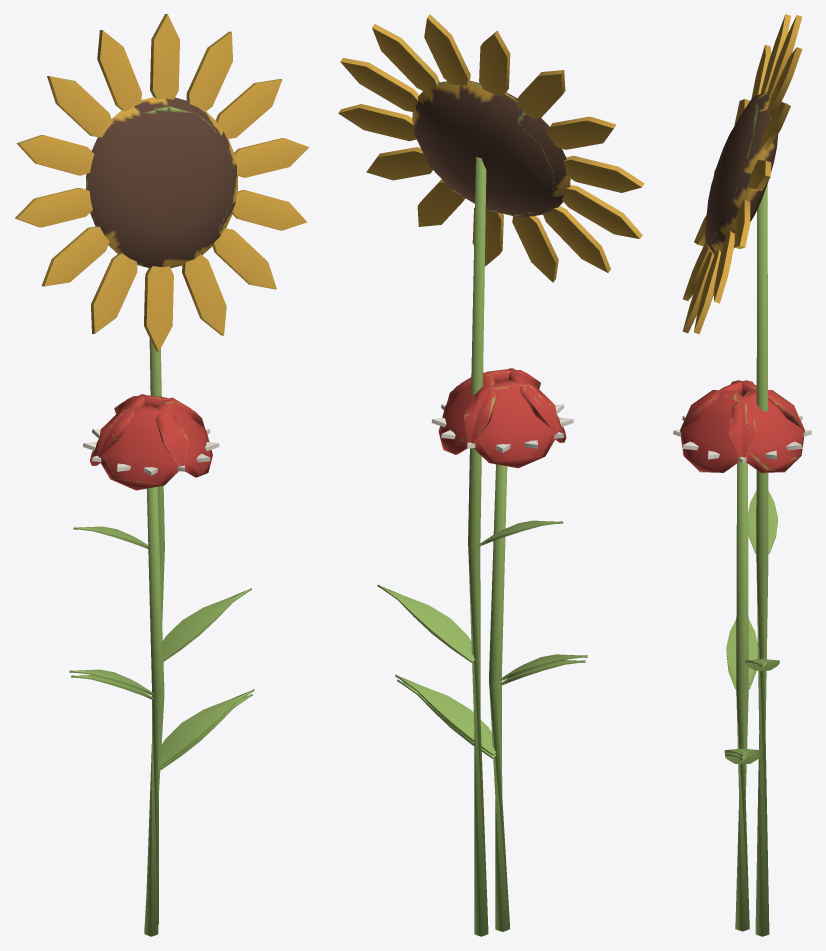
File: fleur.glb
3 views of the same model, side by side, from view 1: azimuth 30°, elevation 25°; view 2: azimuth 150°, elevation 25°; view 3: azimuth 270°, elevation 25° (orthographic). The views are drawn at different scales.
Parts seen in each view (by area): view 1: tournesol, coquelicot, marguerite; view 2: tournesol, coquelicot, marguerite; view 3: tournesol, coquelicot, marguerite.
Part boxes in pixels (left/top/right/bottom): tournesol: left=15, top=14, right=309, bottom=924; coquelicot: left=71, top=394, right=252, bottom=930; marguerite: left=69, top=429, right=254, bottom=936; tournesol: left=338, top=14, right=644, bottom=936; coquelicot: left=397, top=368, right=585, bottom=918; marguerite: left=395, top=404, right=587, bottom=931; tournesol: left=682, top=14, right=802, bottom=936; coquelicot: left=680, top=380, right=804, bottom=931; marguerite: left=673, top=416, right=811, bottom=928.
Size of the model in its own units: 0.1714 by 0.5 by 0.0695.
Materials: 1 (1 with a texture image).
